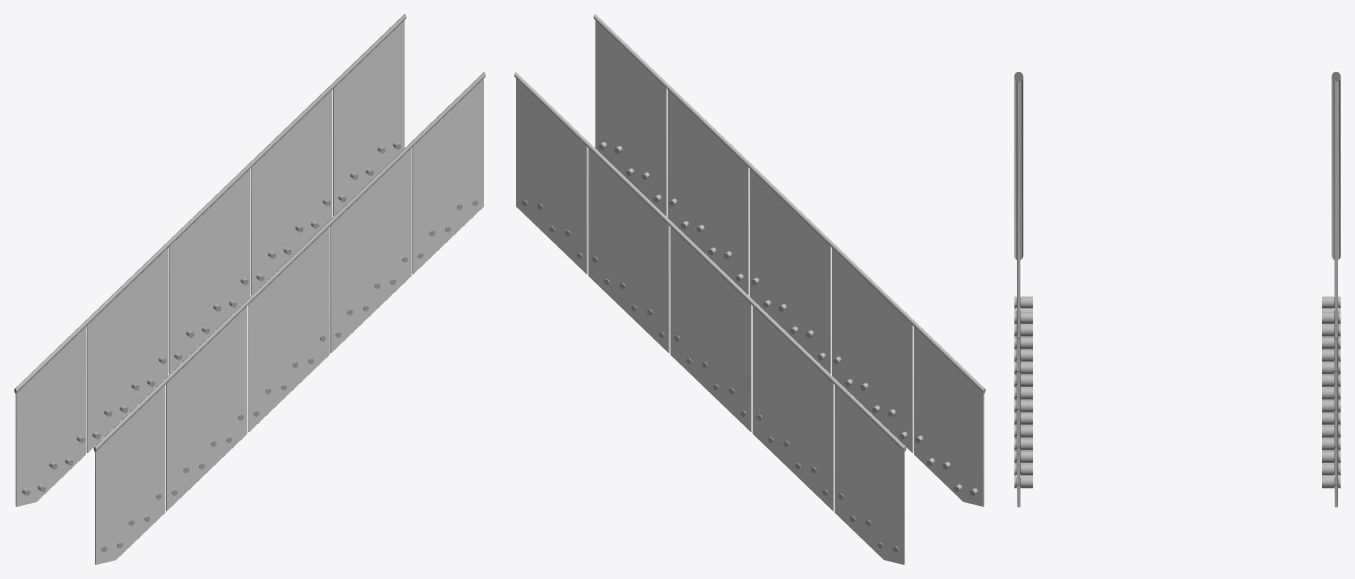
File: Straight_Railing_Optik-Boss.gltf
3 renders of one model, left to right at view 1: azimuth 30°, elevation 25°; view 2: azimuth 150°, elevation 25°; view 3: azimuth 270°, elevation 25°, orthographic. The views are drawn at different scales.
Visible parts, largest first — view 1: Box006, Box007, Generic Models 11 Generic Models 11 [8762451]006, Generic Models 11 Generic Models 11 [8762451]002; view 2: Box007, Box006, Generic Models 11 Generic Models 11 [8762451]002, Generic Models 11 Generic Models 11 [8762451]006; view 3: Box006, Box007, Generic Models 11 Generic Models 11 [8762451]002, Generic Models 11 Generic Models 11 [8762451]006.
Boxes of the visible parts, x1,y1,x2,y2 form: Box006: (95, 78, 483, 564); Box007: (15, 20, 404, 506); Generic Models 11 Generic Models 11 [8762451]006: (14, 14, 406, 393); Generic Models 11 Generic Models 11 [8762451]002: (93, 72, 485, 451); Box007: (516, 78, 904, 564); Box006: (595, 20, 984, 506); Generic Models 11 Generic Models 11 [8762451]002: (593, 14, 985, 393); Generic Models 11 Generic Models 11 [8762451]006: (514, 72, 906, 451); Box006: (1017, 81, 1020, 507); Box007: (1334, 81, 1337, 507); Generic Models 11 Generic Models 11 [8762451]002: (1014, 71, 1023, 259); Generic Models 11 Generic Models 11 [8762451]006: (1331, 71, 1340, 259).
Size of the model in its own units: 3.79 by 3.7 by 1.38.
